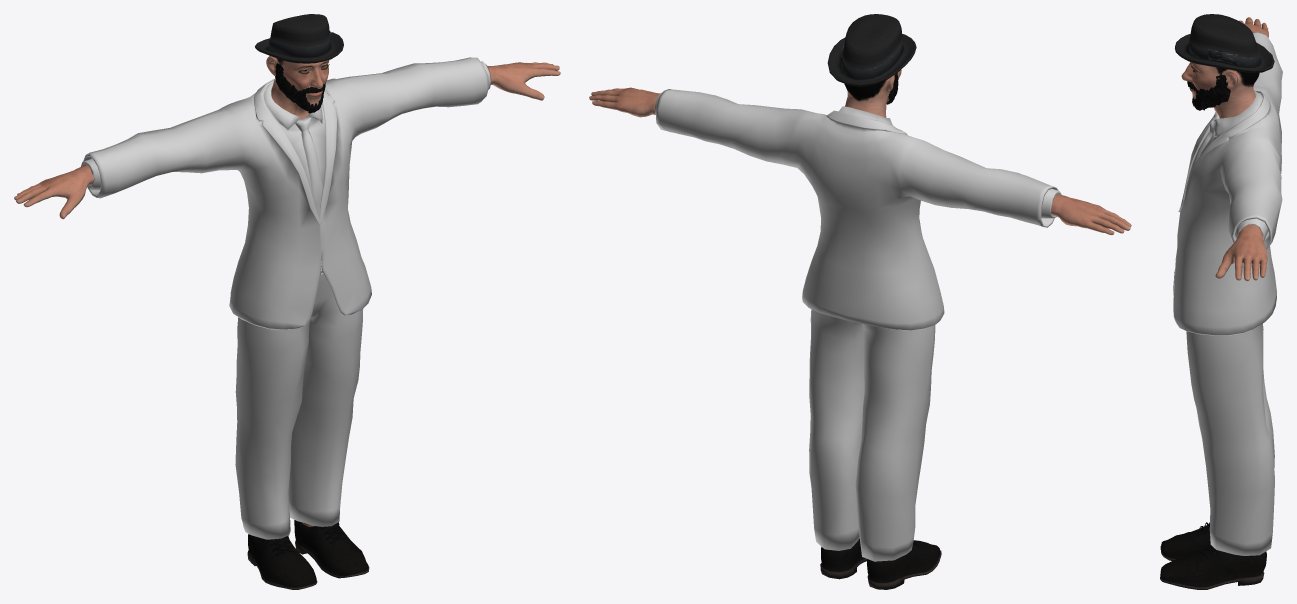
The model's file is NPC5.obj.
The picture shows the model from 3 angles, left to right: view 1: azimuth 30°, elevation 25°; view 2: azimuth 150°, elevation 25°; view 3: azimuth 270°, elevation 25°; orthographic projection.
Parts seen in each view (by area): view 1: Tops, Bottoms, Body, Shoes, Hats, Beards; view 2: Tops, Bottoms, Body, Hats, Shoes; view 3: Tops, Bottoms, Shoes, Body, Hats, Beards.
Part boxes in pixels (x1,y1,x2,y2): Tops: [81, 57, 491, 329]; Bottoms: [235, 261, 363, 539]; Body: [14, 56, 560, 526]; Shoes: [247, 520, 369, 589]; Hats: [255, 14, 343, 63]; Beards: [275, 63, 325, 113]; Tops: [654, 89, 1061, 330]; Bottoms: [809, 309, 935, 561]; Body: [589, 70, 1131, 235]; Hats: [827, 14, 916, 86]; Shoes: [820, 538, 941, 589]; Tops: [1173, 32, 1282, 335]; Bottoms: [1186, 323, 1274, 555]; Shoes: [1160, 522, 1266, 589]; Body: [1181, 17, 1268, 281]; Hats: [1175, 14, 1274, 72]; Beards: [1192, 74, 1230, 110].
Size of the model in its own units: 186 by 180 by 36.64.
